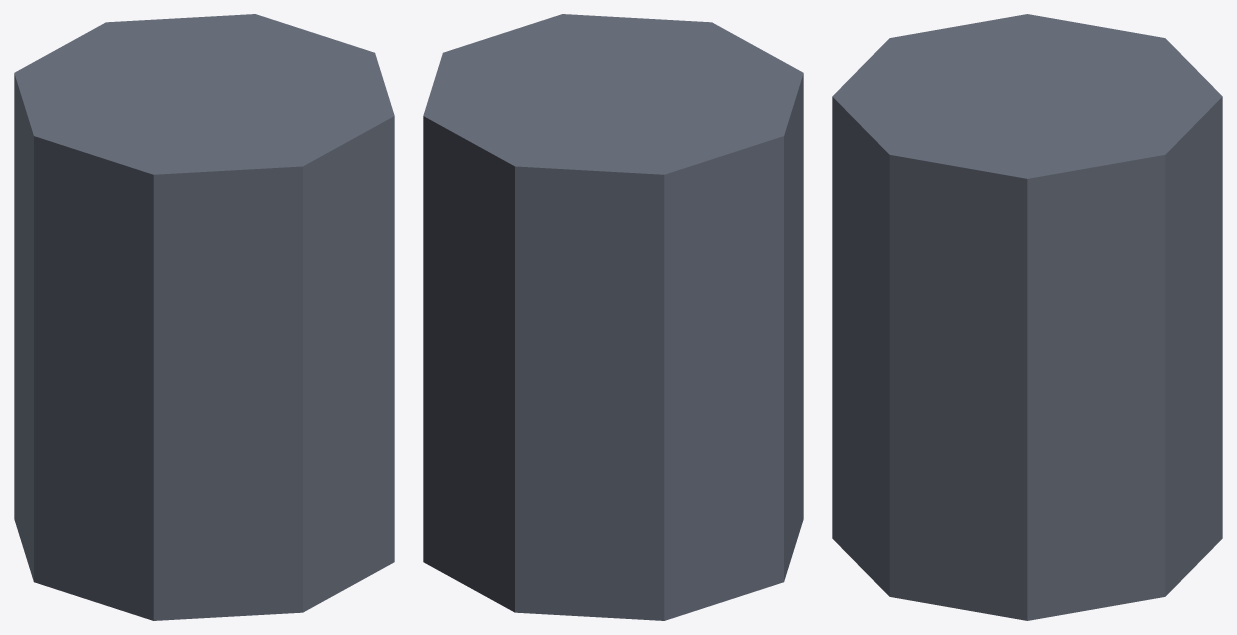
The model's file is rocket_module_cargo.glb.
3 renders of one model, left to right at view 1: azimuth 30°, elevation 25°; view 2: azimuth 150°, elevation 25°; view 3: azimuth 270°, elevation 25°, orthographic.
Parts seen in each view (by area): view 1: body; view 2: body; view 3: body.
Boxes of the visible parts, <box> form: body: <box>14,14,394,620</box>; body: <box>423,14,803,620</box>; body: <box>832,14,1222,620</box>.
Size of the model in its own units: 1.6 by 2 by 1.6.
